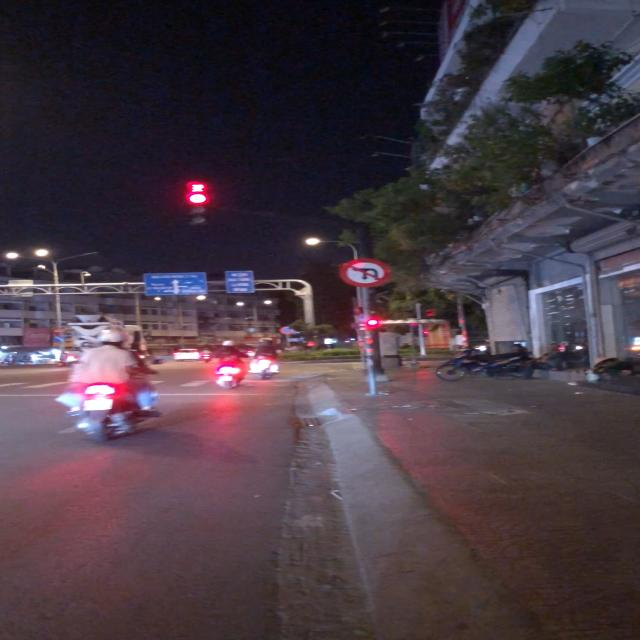Bien bao cam re trai va quay dau: (338, 256, 390, 290)
